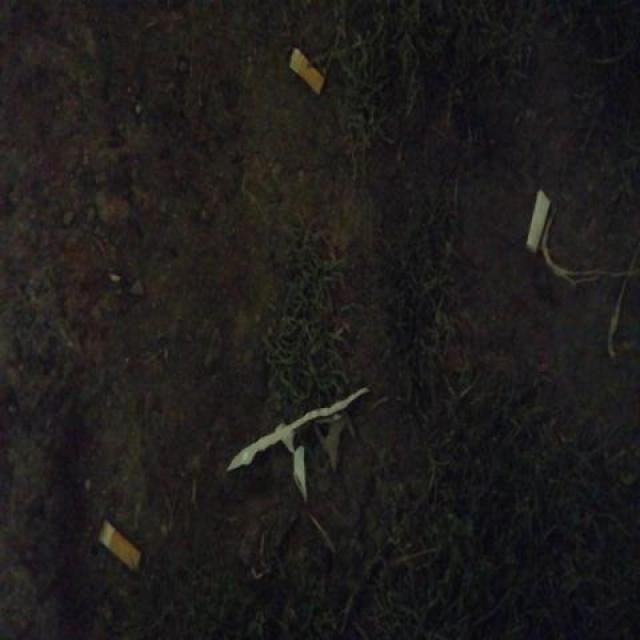non-organic waste: (95, 513, 145, 576), (285, 44, 327, 101), (524, 184, 553, 257)
